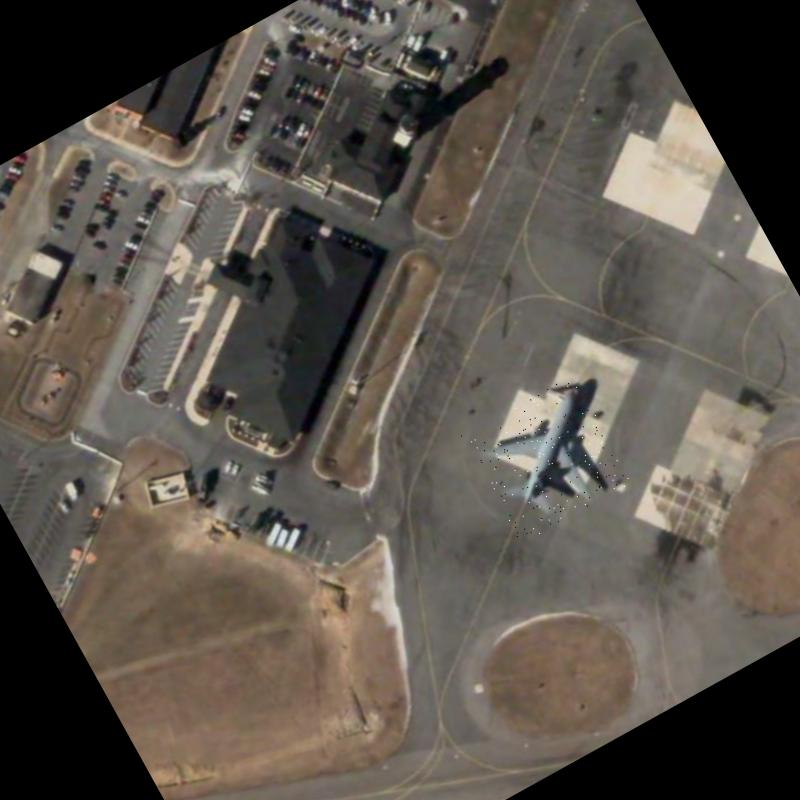A18: (460, 372, 632, 544)
